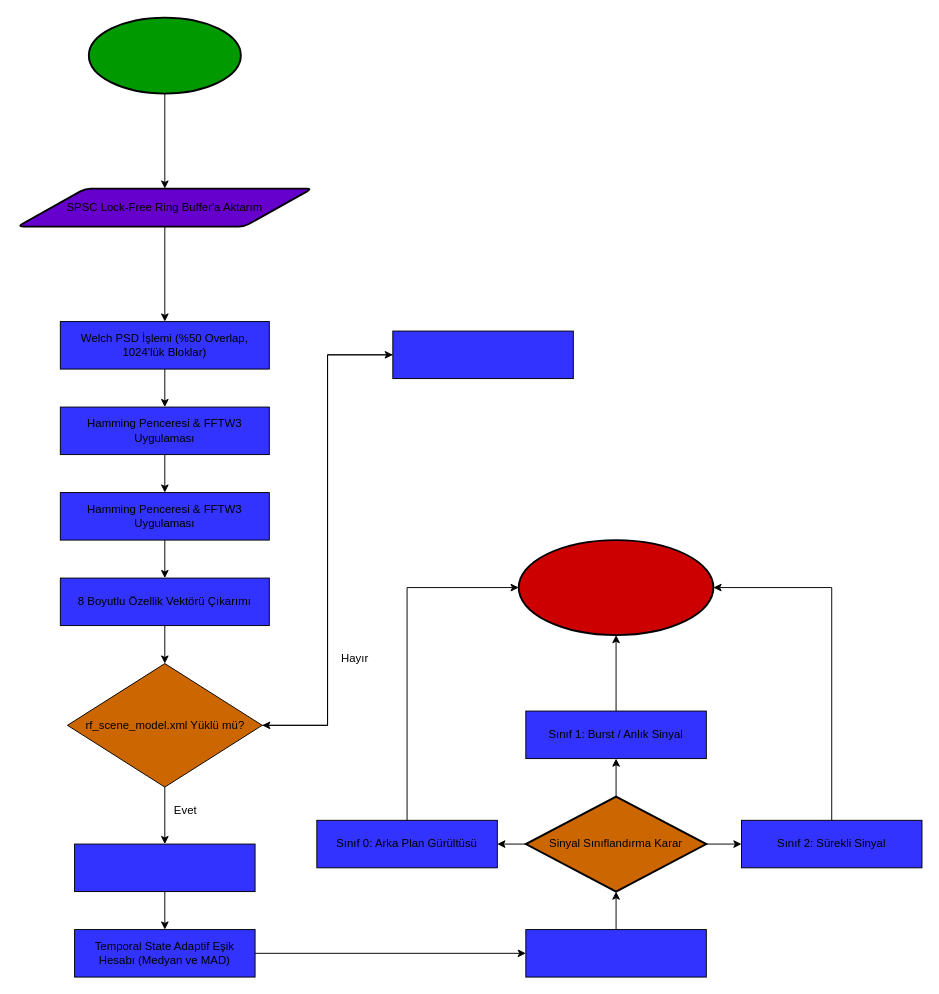
This 939x994 diagram has some shape labels left out. Each missing label, with the centre of its shape:
Başlangıç: HackRF SDR (20 MSPS IQ Veri Akışı): the point at 164,55
Bitiş / Tespit Aşaması Tamamlandı: the point at 615,587
EMA (Üstel Hareketli Ortalama) Filtresi": the point at 615,953
GMM Eğitimi (2000 Örnek, SVD Uygulaması): the point at 482,354
GMM Log-Likelihood (Olabilirlik) Hesabı: the point at 164,867
